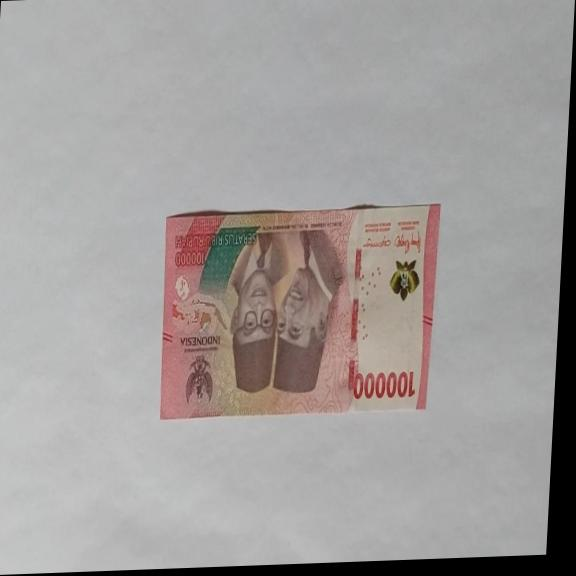Kertas: (154, 202, 440, 422)
